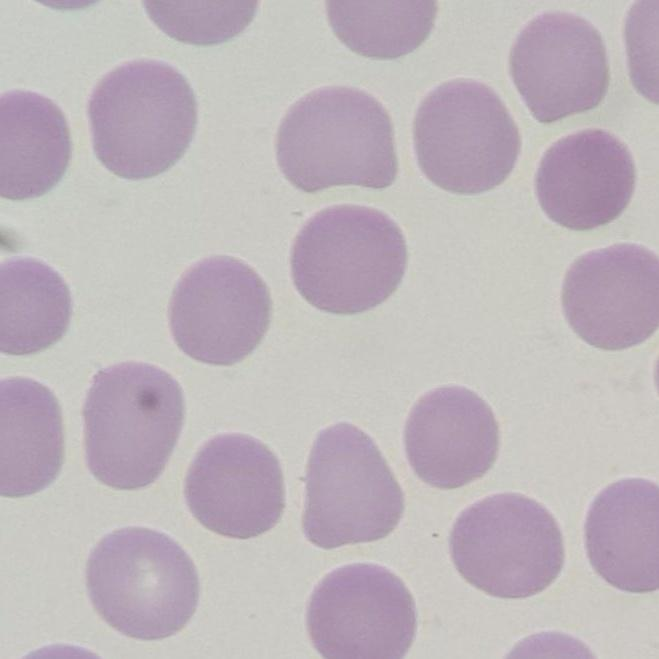Uninfected: (87, 57, 197, 180), (273, 87, 400, 192), (290, 201, 403, 315), (80, 362, 179, 491), (307, 421, 406, 549), (453, 491, 566, 603), (412, 79, 520, 196), (90, 527, 197, 643), (185, 427, 286, 540), (512, 14, 613, 127), (172, 254, 273, 364), (310, 564, 422, 659), (560, 241, 658, 349), (402, 386, 500, 491), (537, 131, 639, 227), (585, 471, 659, 599), (0, 91, 72, 199), (326, 0, 437, 61)
